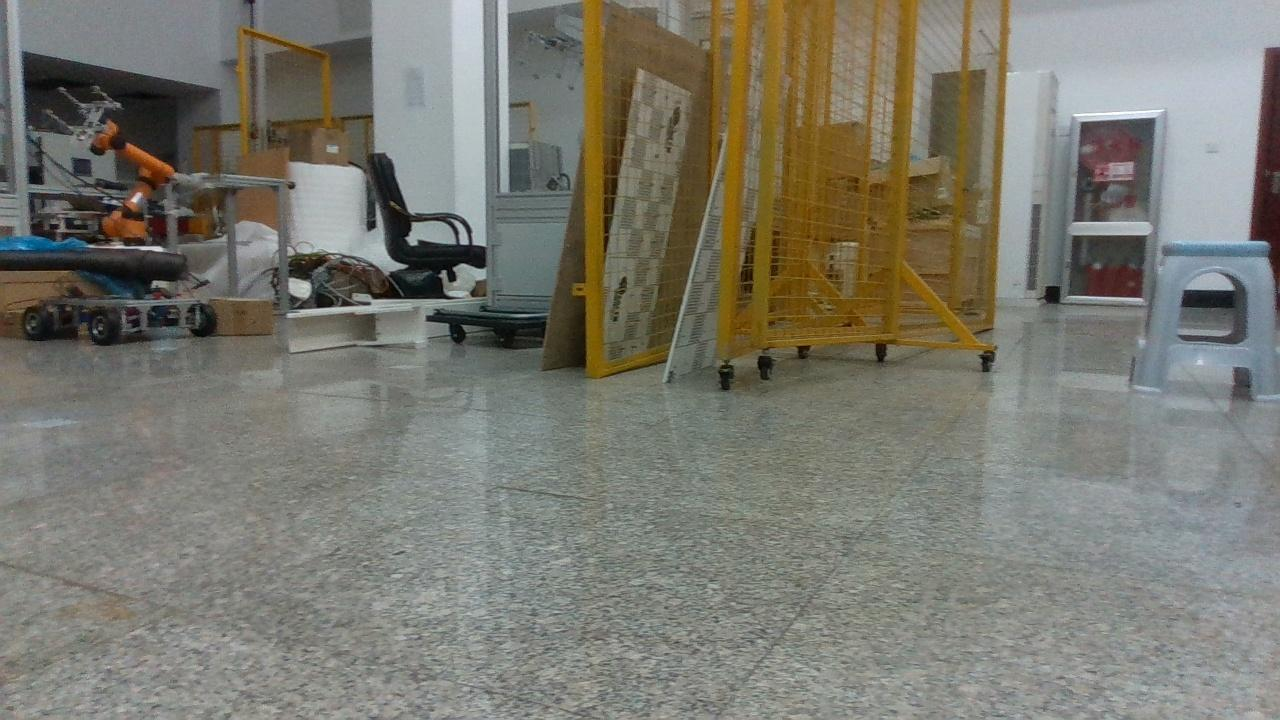stool: (1132, 240, 1280, 400)
